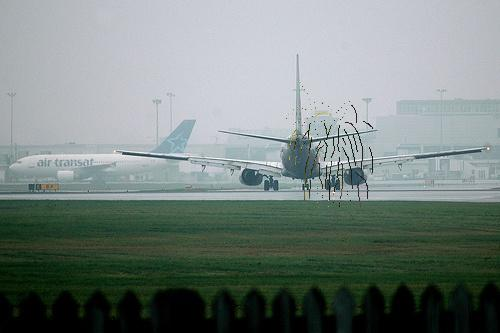tampered: (287, 83, 373, 251)
